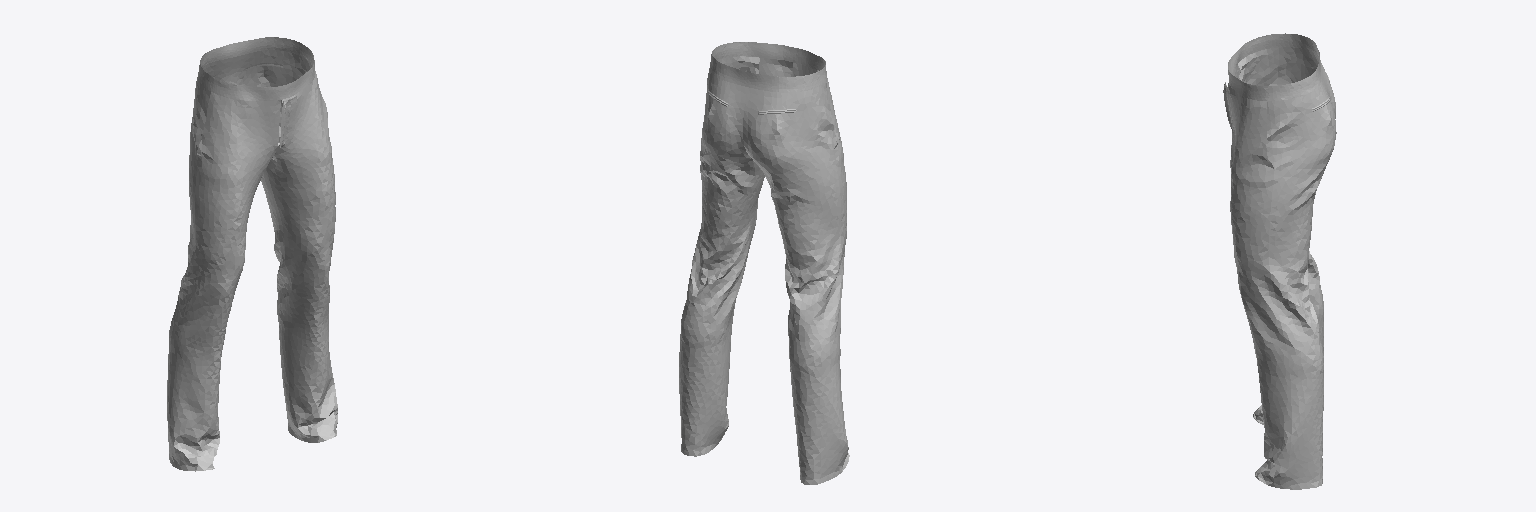
File: pantalonn.obj
3 views of the same model, side by side, from view 1: azimuth 30°, elevation 25°; view 2: azimuth 150°, elevation 25°; view 3: azimuth 270°, elevation 25° (orthographic).
Visible parts, largest first — view 1: default001; view 2: default001; view 3: default001.
Boxes of the visible parts, x1,y1,x2,y2 form: default001: [167, 37, 337, 471]; default001: [679, 42, 849, 484]; default001: [1223, 33, 1336, 489].
Bounding box in the file's own units: 46.48 × 109 × 27.91.